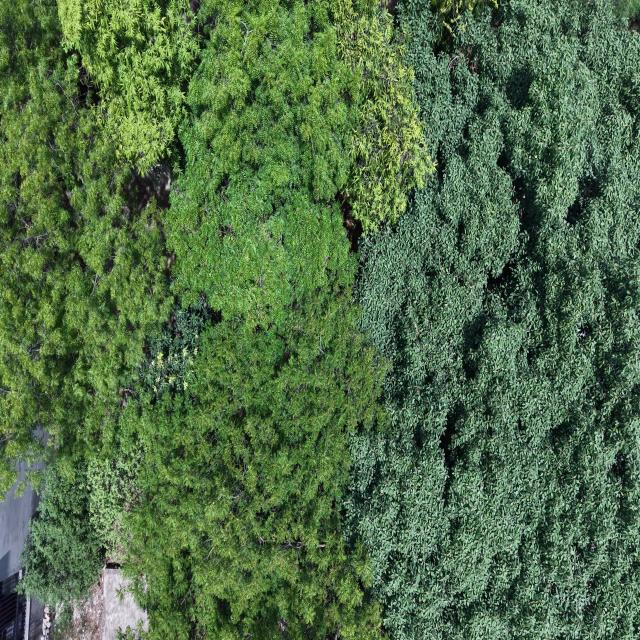VEGETATION_TREE: (0, 0, 639, 639), (44, 3, 429, 636), (350, 0, 639, 638), (127, 2, 404, 637), (0, 0, 170, 604), (129, 293, 379, 637), (58, 0, 432, 228), (0, 0, 170, 490), (166, 0, 358, 331), (172, 3, 429, 234), (58, 0, 200, 173), (331, 0, 434, 231), (20, 451, 139, 628), (21, 463, 103, 604), (141, 296, 219, 398), (86, 443, 143, 564), (433, 0, 480, 34), (614, 0, 639, 26)
